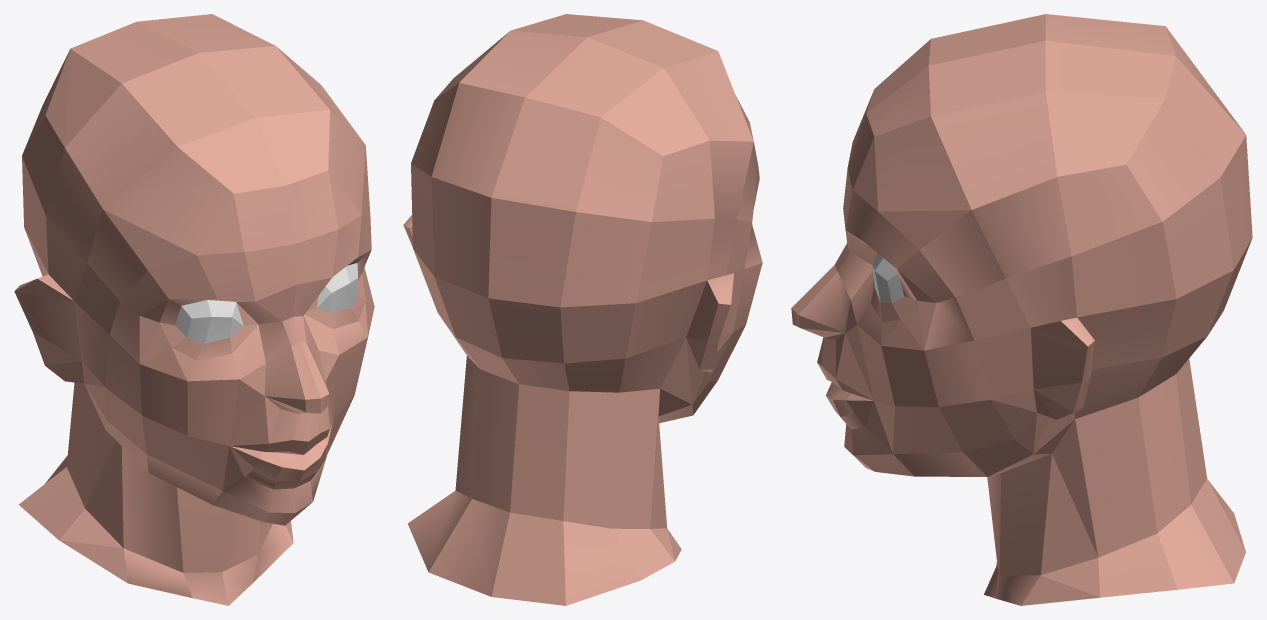
Rendered from cutrmumhead.fbx.
3 views of the same model, side by side, from view 1: azimuth 30°, elevation 25°; view 2: azimuth 150°, elevation 25°; view 3: azimuth 270°, elevation 25° (orthographic). The views are drawn at different scales.
Parts seen in each view (by area): view 1: mum.021; view 2: mum.021; view 3: mum.021.
Part boxes in pixels (box(x1,y1,x2,y2)): mum.021: box(14, 14, 374, 605); mum.021: box(403, 14, 762, 605); mum.021: box(791, 14, 1252, 605).
Size of the model in its own units: 21.52 by 33.25 by 25.1.
